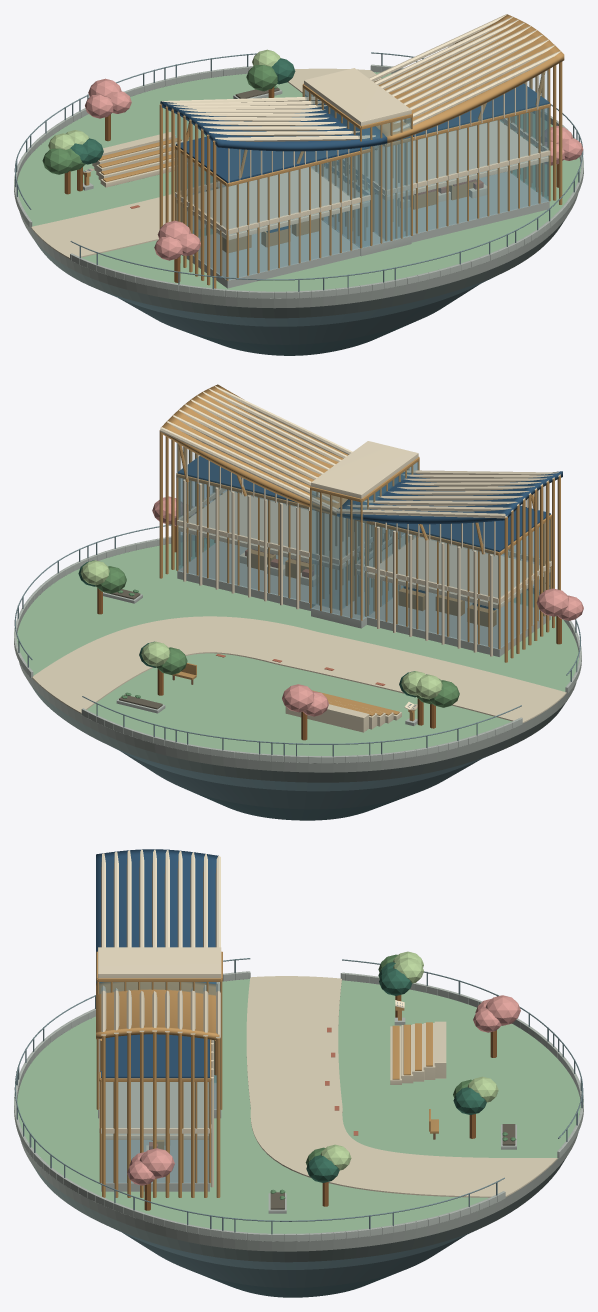
3 renders of one model, top to bottom at view 1: azimuth 30°, elevation 25°; view 2: azimuth 150°, elevation 25°; view 3: azimuth 270°, elevation 25°, orthographic. The views are drawn at different scales.
Parts seen in each view (by area): view 1: ROLE_building_Components__eduGlass, ROLE_terrain_Components__grass, ROLE_building_Components__eduAmber, ROLE_roof_Components__eduCream, ROLE_building_Components__eduCream, ROLE_roof_Components__eduGlass, ROLE_roof_Components__eduAmber, ROLE_paving_Components__stone2, ROLE_roof_Components__eduBlue, ROLE_rails_Components__stone2, ROLE_paving_Components__paveLight, ROLE_terrain_Components__stone2 (+12 smaller); view 2: ROLE_terrain_Components__grass, ROLE_building_Components__eduGlass, ROLE_paving_Components__paveLight, ROLE_building_Components__eduAmber, ROLE_roof_Components__eduCream, ROLE_building_Components__eduCream, ROLE_roof_Components__eduGlass, ROLE_roof_Components__eduAmber, ROLE_paving_Components__stone2, ROLE_roof_Components__eduBlue, ROLE_rails_Components__stone2, ROLE_terrain_Components__stone2 (+11 smaller); view 3: ROLE_terrain_Components__grass, ROLE_paving_Components__paveLight, ROLE_roof_Components__eduCream, ROLE_roof_Components__eduBlue, ROLE_building_Components__eduAmber, ROLE_rails_Components__stone2, ROLE_building_Components__eduGlass, ROLE_roof_Components__eduAmber, ROLE_terrain_Components__stone2, ROLE_terrain_Components__cliff3, ROLE_building_Components__eduCream, ROLE_terrain_Components__cliff2 (+10 smaller).
Part boxes in pixels (left/top/right/bottom): ROLE_building_Components__eduGlass: left=176, top=107, right=549, bottom=280; ROLE_terrain_Components__grass: left=17, top=72, right=581, bottom=291; ROLE_building_Components__eduAmber: left=98, top=62, right=562, bottom=288; ROLE_roof_Components__eduCream: left=160, top=14, right=560, bottom=182; ROLE_building_Components__eduCream: left=175, top=118, right=550, bottom=240; ROLE_roof_Components__eduGlass: left=175, top=70, right=548, bottom=247; ROLE_roof_Components__eduAmber: left=186, top=14, right=564, bottom=248; ROLE_paving_Components__stone2: left=182, top=172, right=549, bottom=288; ROLE_roof_Components__eduBlue: left=160, top=83, right=549, bottom=183; ROLE_rails_Components__stone2: left=14, top=64, right=583, bottom=298; ROLE_paving_Components__paveLight: left=31, top=68, right=384, bottom=258; ROLE_terrain_Components__stone2: left=19, top=194, right=577, bottom=308; ROLE_terrain_Components__grass: left=16, top=539, right=578, bottom=755; ROLE_building_Components__eduGlass: left=178, top=478, right=550, bottom=648; ROLE_paving_Components__paveLight: left=32, top=616, right=566, bottom=722; ROLE_building_Components__eduAmber: left=159, top=430, right=560, bottom=716; ROLE_roof_Components__eduCream: left=160, top=386, right=560, bottom=556; ROLE_building_Components__eduCream: left=177, top=479, right=551, bottom=656; ROLE_roof_Components__eduGlass: left=176, top=443, right=545, bottom=620; ROLE_roof_Components__eduAmber: left=161, top=384, right=534, bottom=620; ROLE_paving_Components__stone2: left=177, top=541, right=550, bottom=656; ROLE_roof_Components__eduBlue: left=177, top=456, right=562, bottom=551; ROLE_rails_Components__stone2: left=14, top=535, right=581, bottom=763; ROLE_terrain_Components__stone2: left=19, top=662, right=576, bottom=772; ROLE_terrain_Components__grass: left=17, top=979, right=580, bottom=1233; ROLE_paving_Components__paveLight: left=246, top=976, right=557, bottom=1197; ROLE_roof_Components__eduCream: left=98, top=849, right=221, bottom=1073; ROLE_roof_Components__eduBlue: left=96, top=849, right=218, bottom=1078; ROLE_building_Components__eduAmber: left=99, top=1022, right=432, bottom=1197; ROLE_rails_Components__stone2: left=14, top=971, right=583, bottom=1241; ROLE_building_Components__eduGlass: left=105, top=1082, right=208, bottom=1182; ROLE_roof_Components__eduAmber: left=96, top=951, right=222, bottom=1109; ROLE_terrain_Components__stone2: left=20, top=1132, right=578, bottom=1251; ROLE_terrain_Components__cliff3: left=31, top=1157, right=566, bottom=1262; ROLE_building_Components__eduCream: left=99, top=1040, right=213, bottom=1187; ROLE_terrain_Components__cliff2: left=123, top=1233, right=465, bottom=1287.
Size of the model in its own units: 32.74 by 17.99 by 29.82.
